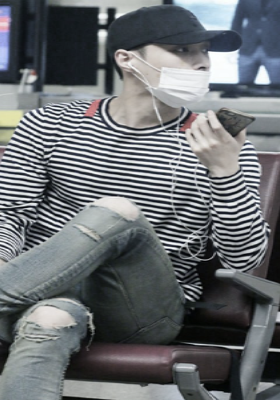mask_weared_incorrect: (130, 43, 211, 108)
